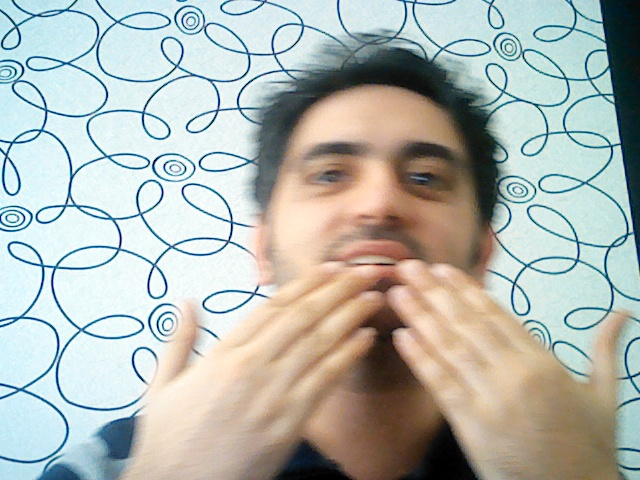ThankYou: (106, 261, 631, 480)
